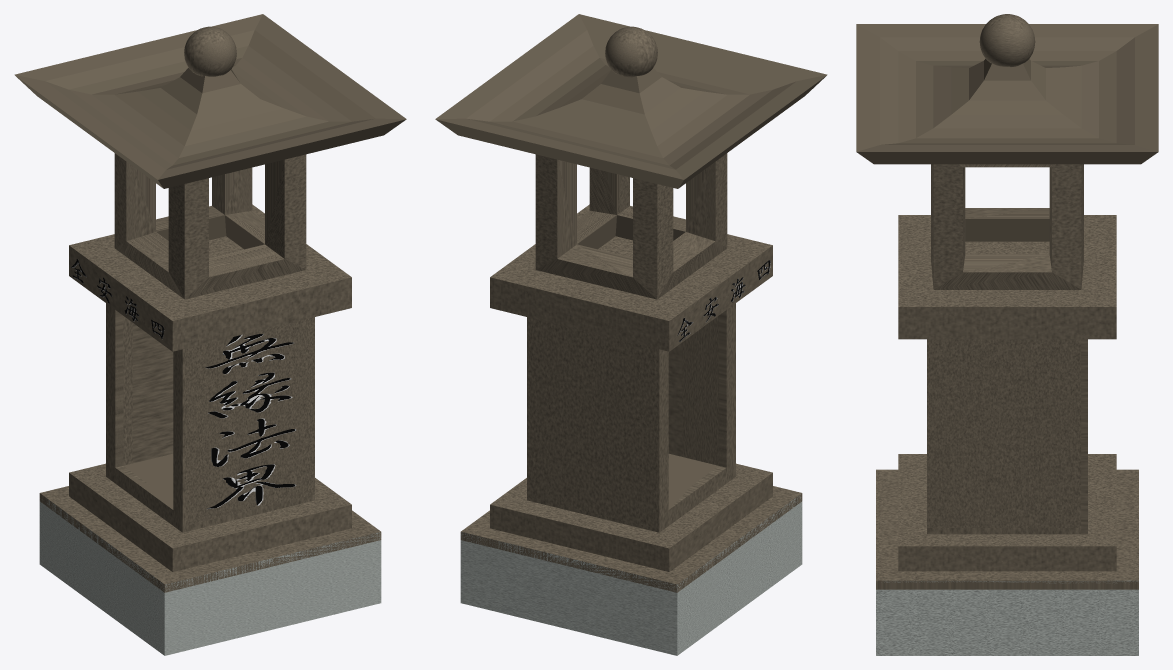
File: 万灯台.glb
The picture shows the model from 3 angles, left to right: view 1: azimuth 30°, elevation 25°; view 2: azimuth 150°, elevation 25°; view 3: azimuth 270°, elevation 25°; orthographic projection. The views are drawn at different scales.
Parts seen in each view (by area): view 1: 球.002, 球.003, 球.004, 球.001, 平面; view 2: 球.002, 球.003, 球.004, 平面; view 3: 球.002, 球.003.
Part boxes in pixels (x1,y1,x2,y2): 球.002: [14, 14, 406, 592]; 球.003: [39, 496, 381, 655]; 球.004: [115, 310, 173, 509]; 球.001: [205, 334, 296, 509]; 平面: [71, 259, 164, 339]; 球.002: [435, 14, 827, 592]; 球.003: [460, 494, 802, 655]; 球.004: [668, 310, 726, 509]; 平面: [677, 260, 770, 341]; 球.002: [856, 14, 1158, 589]; 球.003: [876, 580, 1138, 655].
Size of the model in its own units: 2.3 by 4.9 by 2.3.
Materials: 5 (5 with a texture image).
